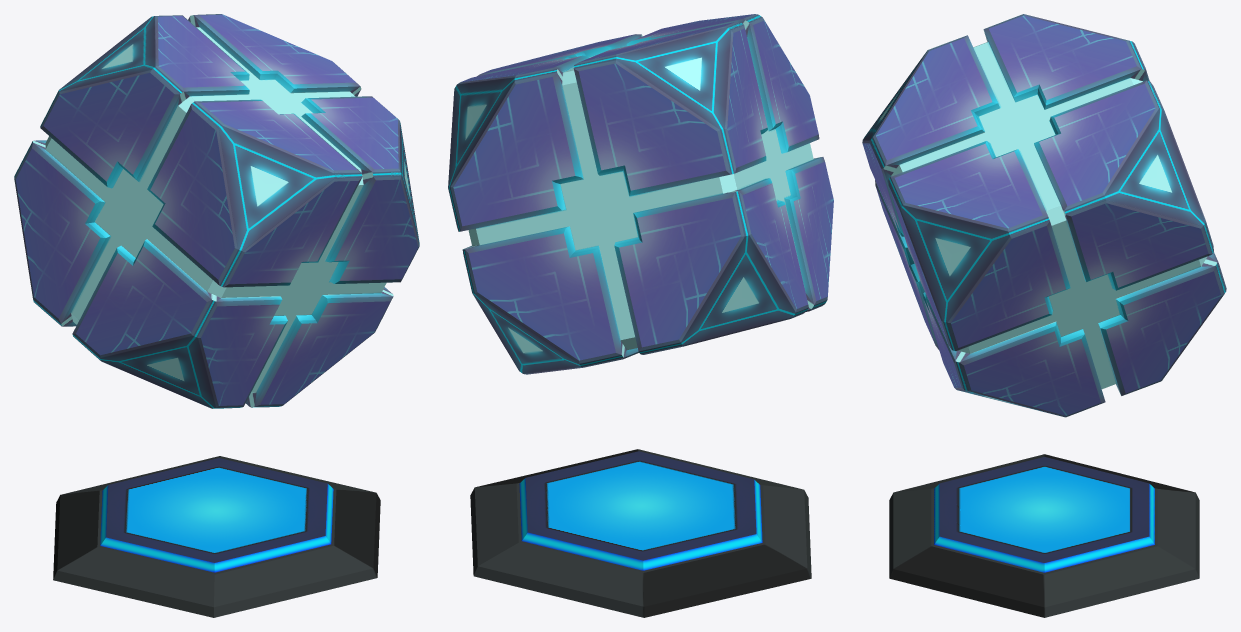
File: cost.fbx
3 renders of one model, left to right at view 1: azimuth 30°, elevation 25°; view 2: azimuth 150°, elevation 25°; view 3: azimuth 270°, elevation 25°, orthographic. The views are drawn at different scales.
Parts seen in each view (by area): view 1: Cube, 柱体.001; view 2: Cube, 柱体.001; view 3: Cube, 柱体.001.
Part boxes in pixels (x1,y1,x2,y2): Cube: [14, 14, 419, 408]; 柱体.001: [53, 456, 380, 617]; Cube: [448, 14, 833, 374]; 柱体.001: [470, 449, 811, 617]; Cube: [862, 14, 1226, 417]; 柱体.001: [889, 454, 1199, 617].
Bounding box in the file's own units: 266 × 382 × 257.
2 materials, 2 textured.
